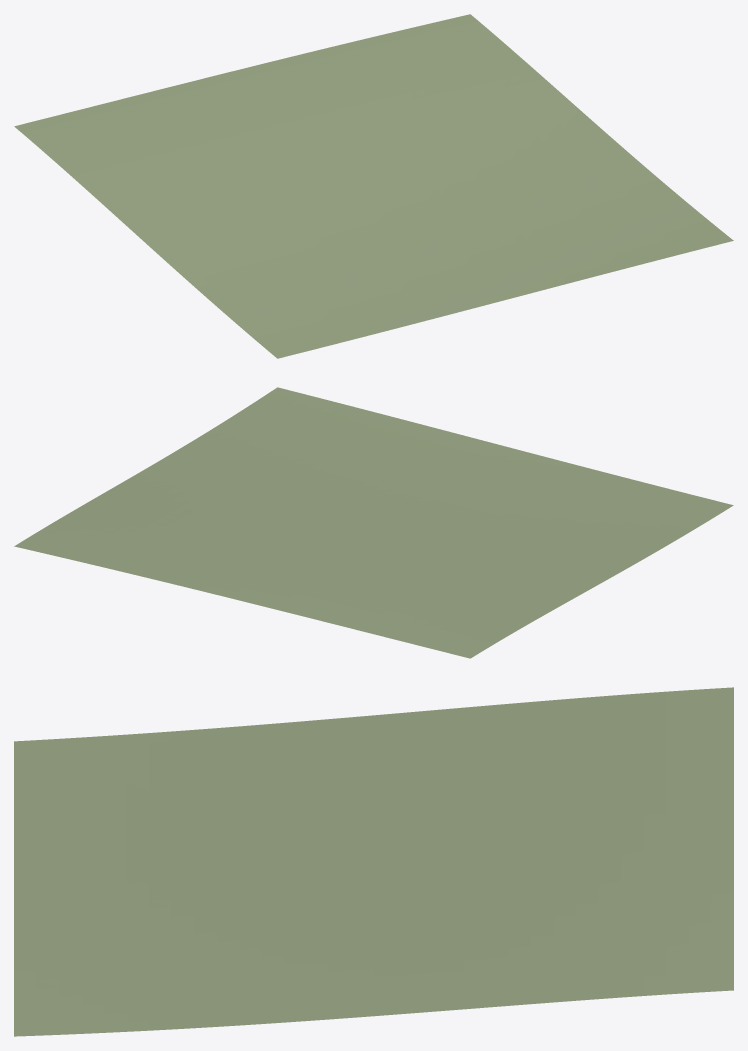
The model's file is desert-23-23.glb.
The picture shows the model from 3 angles, top to bottom: view 1: azimuth 30°, elevation 25°; view 2: azimuth 150°, elevation 25°; view 3: azimuth 270°, elevation 25°; orthographic projection. The views are drawn at different scales.
Parts seen in each view (by area): view 1: desert-23-23; view 2: desert-23-23; view 3: desert-23-23.
Boxes of the visible parts, x1,y1,x2,y2 form: desert-23-23: (14, 14, 733, 358); desert-23-23: (14, 387, 733, 658); desert-23-23: (14, 687, 733, 1036).
Bounding box in the file's own units: 512 × 44.47 × 512.
